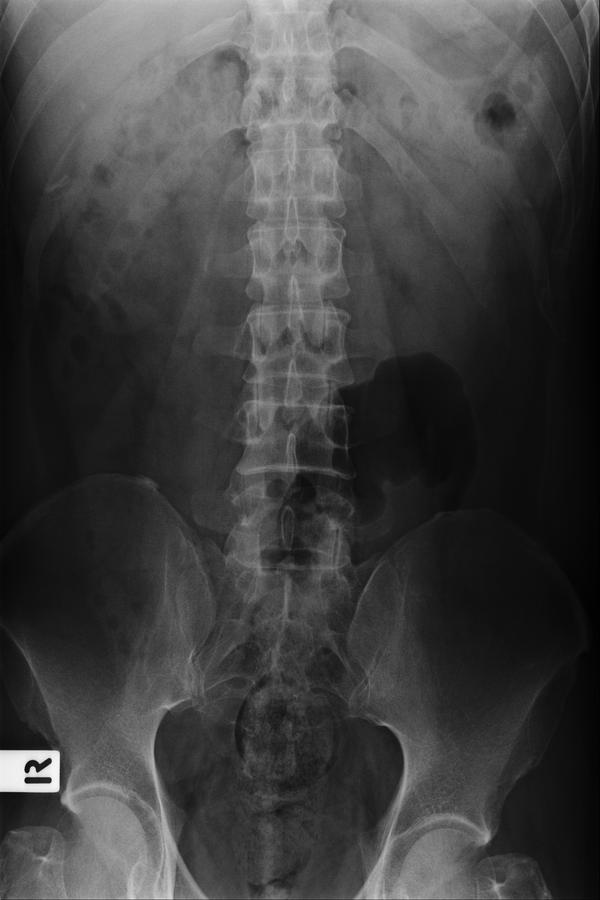lumbar scoliosis: (222, 152, 371, 600)
